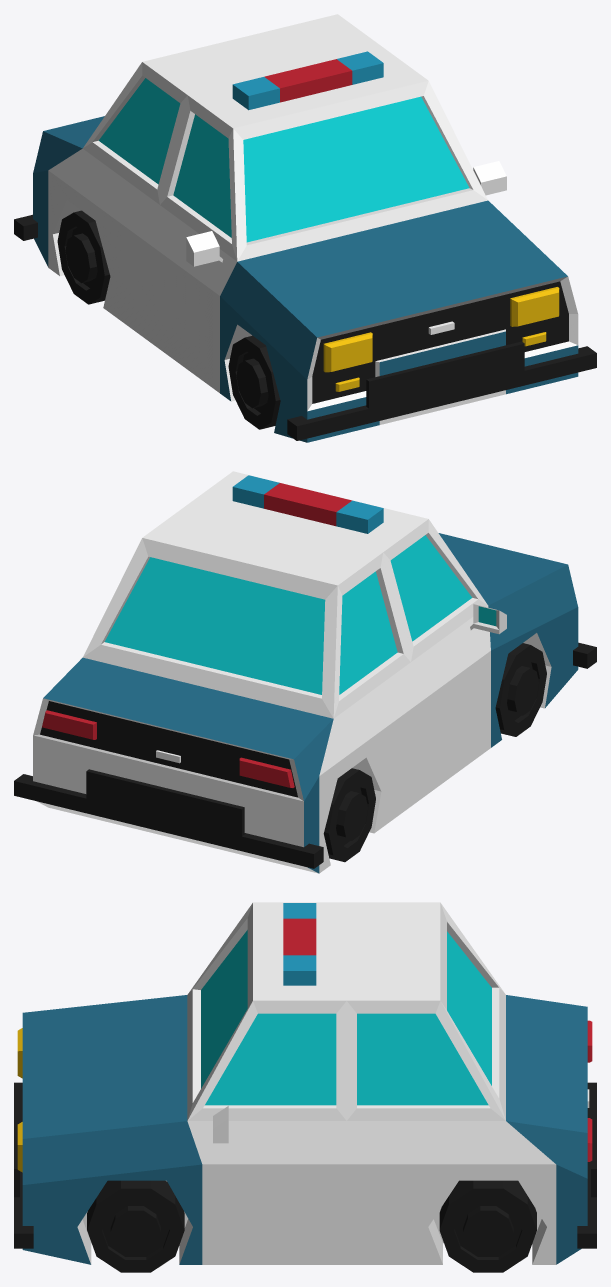
The model's file is policecar.glb.
The picture shows the model from 3 angles, top to bottom: view 1: azimuth 30°, elevation 25°; view 2: azimuth 150°, elevation 25°; view 3: azimuth 270°, elevation 25°; orthographic projection. The views are drawn at different scales.
Parts seen in each view (by area): view 1: policecar; view 2: policecar; view 3: policecar.
Boxes of the visible parts, <box> form: policecar: <box>14,14,596,442</box>; policecar: <box>14,471,596,873</box>; policecar: <box>14,902,596,1272</box>.
Bounding box in the file's own units: 4.61 × 3.66 × 7.22.
1 material, 1 textured.
